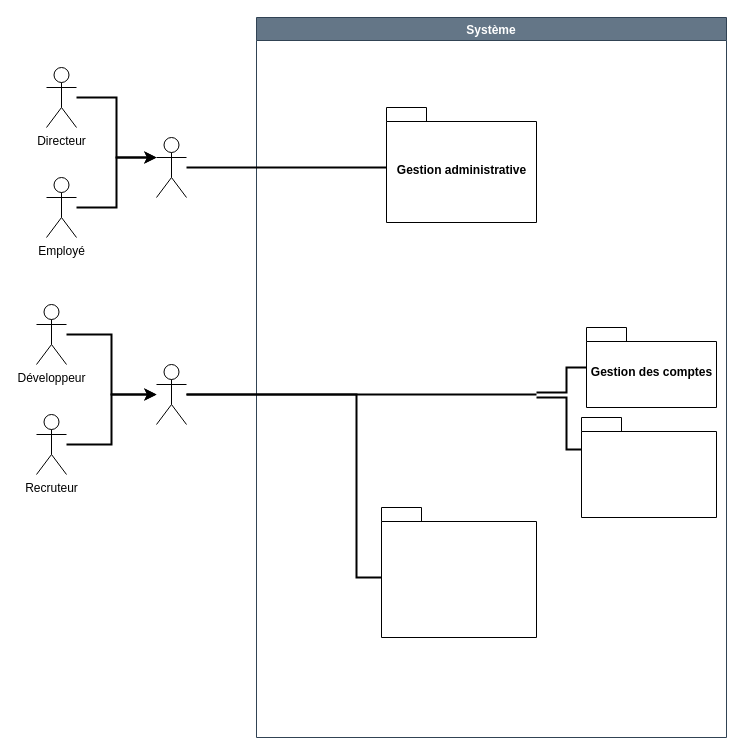
Image size: 744x755. Some labels were removed from this diagram. Here are the shapes that lost their labels. From the top down, the centre of each, then its label:
At [171,167]: "Service administratif".
At [171,394]: "Utilisateur".
At [648,467]: "Gestion des annonces".
At [458,572]: "Matching".
